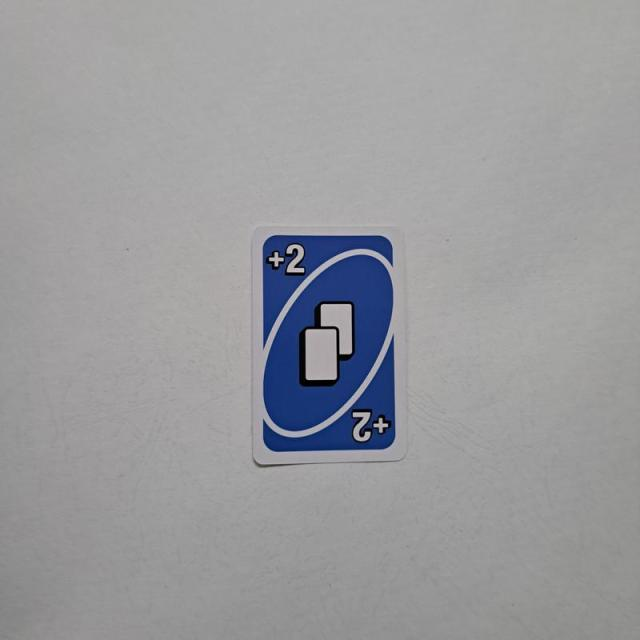Blue_Card: (256, 232, 400, 458)
Draw_Two: (264, 236, 310, 280)
